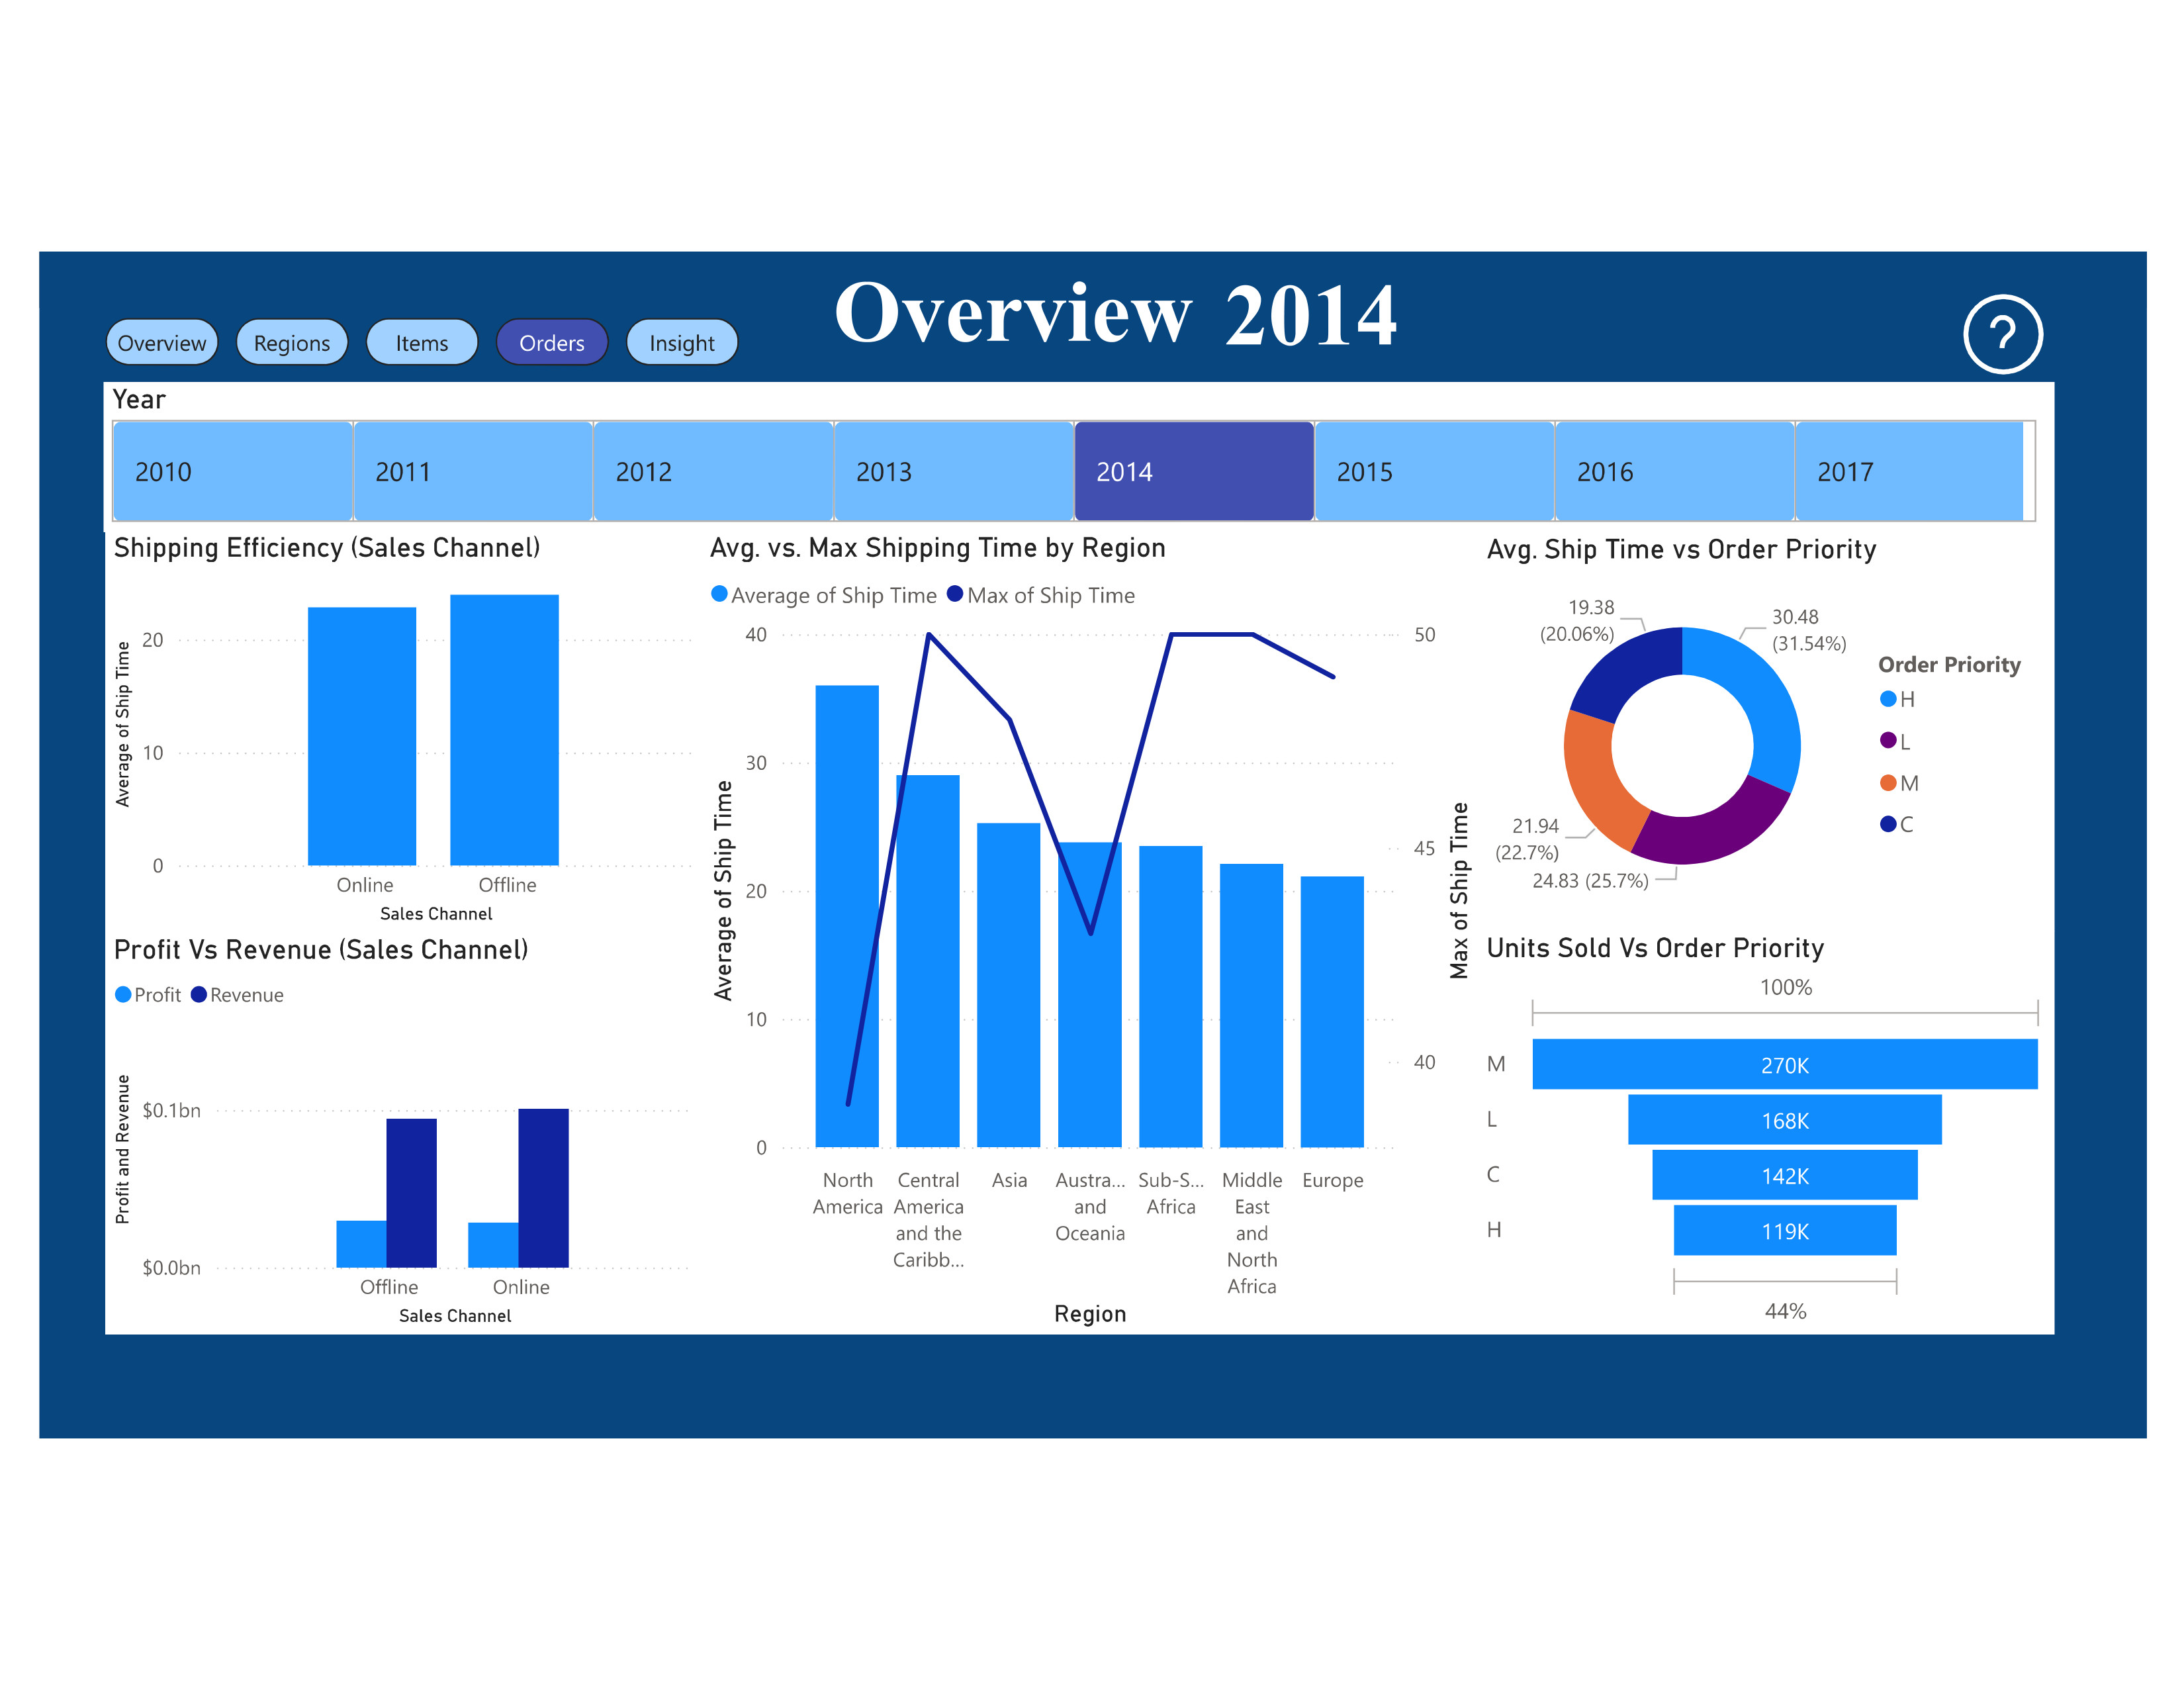

This screenshot's page, from the dashboard's own definition file:
{"tool":"powerbi","page":{"name":"Orders","canvas":[1280,720],"ordinal":3},"visuals":[{"type":"textbox","box":[457.1,0,269.1,100.9],"z":0},{"type":"advancedSlicerVisual","fields":{"Values":["Date.Year"]},"box":[38.6,79.4,1185.3,90.2],"z":1000},{"type":"pageNavigator","box":[40.5,40.5,385.7,28.6],"z":3000},{"type":"card","fields":{"Values":["Records.This.Year"]},"box":[688.6,0,168.2,67.3],"z":4000},{"type":"clusteredColumnChart","title":"Shipping Efficiency (Sales Channel)","fields":{"Category":["Records.Sales Channel"],"Y":["Avg(Orders.Ship Time)"]},"box":[39.6,168.8,362.7,243.9],"z":5000},{"type":"clusteredColumnChart","title":"Profit Vs Revenue (Sales Channel)","fields":{"Category":["Records.Sales Channel"],"Y":["Records.Profit","Records.Revenue"]},"box":[39.6,412.7,362.7,243.9],"z":6000},{"type":"donutChart","title":"Avg. Ship Time vs Order Priority","fields":{"Category":["Records.Order Priority"],"Y":["Avg(Orders.Ship Time)"]},"box":[873.9,169.6,350,242.6],"z":7000},{"type":"lineClusteredColumnComboChart","title":"Avg. vs. Max Shipping Time by Region","fields":{"Category":["Country.Region"],"Y":["Avg(Orders.Ship Time)"],"Y2":["Max(Orders.Ship Time)"]},"box":[402.3,168.8,473.1,487.7],"z":8000},{"type":"funnel","title":"Units Sold Vs Order Priority","fields":{"Category":["Records.Order Priority"],"Y":["Sum(Orders.Units Sold)"]},"box":[873.9,412.3,350,244.8],"z":9000},{"type":"image","box":[0,0,1281,719],"z":9001},{"type":"actionButton","box":[1161.9,19,81,61.9],"z":9002}]}

Visuals, with their boxes on the page's 1280x720 design canvas (x1, y1, x2, y2). These are canvas units, not pixel positions in the 2184x1688 screenshot, which may show the page scaled, cropped or inside an application window:
textbox: region(457, 0, 726, 101)
advancedSlicerVisual - Date.Year: region(39, 79, 1224, 170)
pageNavigator: region(40, 40, 426, 69)
card - Records.This.Year: region(689, 0, 857, 67)
"Shipping Efficiency (Sales Channel)" clusteredColumnChart: region(40, 169, 402, 413)
"Profit Vs Revenue (Sales Channel)" clusteredColumnChart: region(40, 413, 402, 657)
"Avg. Ship Time vs Order Priority" donutChart: region(874, 170, 1224, 412)
"Avg. vs. Max Shipping Time by Region" lineClusteredColumnComboChart: region(402, 169, 875, 656)
"Units Sold Vs Order Priority" funnel: region(874, 412, 1224, 657)
image: region(0, 0, 1281, 719)
actionButton: region(1162, 19, 1243, 81)
